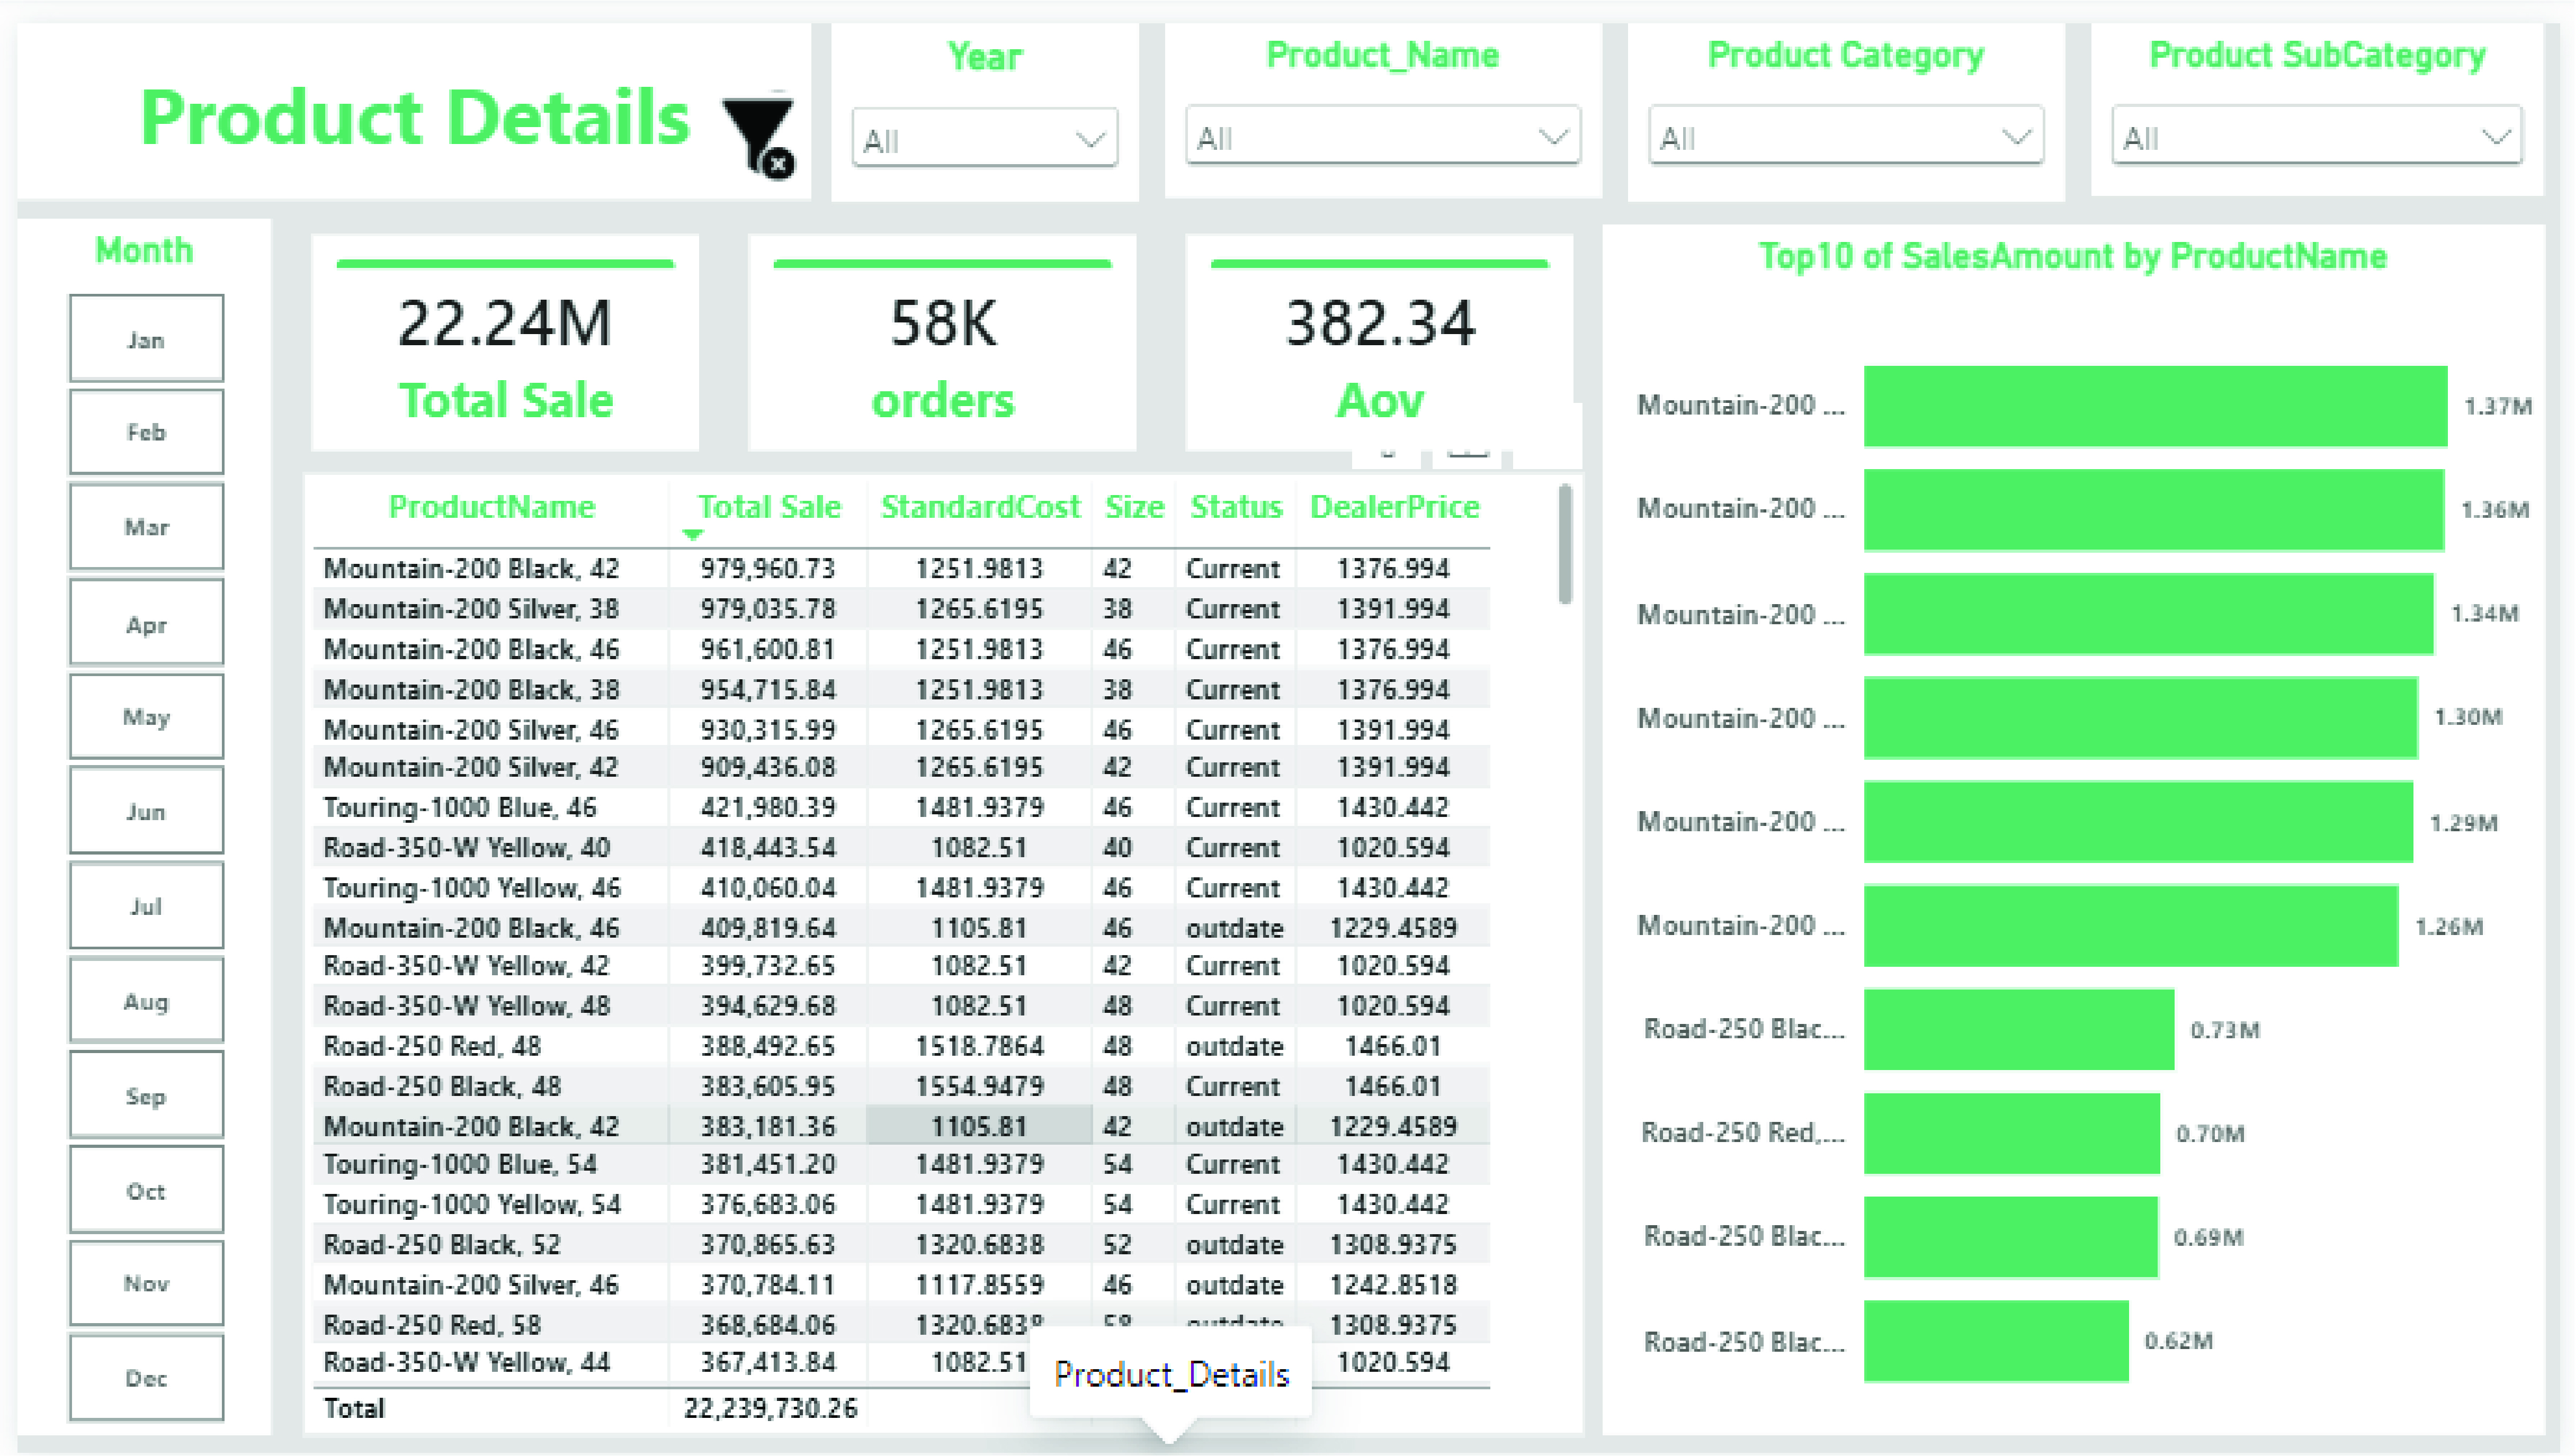

The dashboard page shown, as its layout file describes it:
{"tool":"powerbi","page":{"name":"Product_Details","canvas":[1280,720],"ordinal":2},"visuals":[{"type":"slicer","title":"Month","fields":{"Values":["Dim_Date.mon_3"]},"box":[0,98,128,613],"z":0},{"type":"actionButton","title":"Sales Overview","box":[0,0,399.8,89],"z":1000},{"type":"slicer","title":"Product Category","fields":{"Values":["Dim-Product.ProductCategory"]},"box":[811.7,0.4,220,90],"z":2000},{"type":"slicer","title":"Product SubCategory","fields":{"Values":["Dim-Product.ProductSubcategory"]},"box":[1045.3,0,228.3,86.8],"z":3000},{"type":"barChart","title":"Top10 of SalesAmount by ProductName","fields":{"Category":["Dim-Product.ProductName"],"Y":["Sum(Fact_Sale.SalesAmount)"]},"box":[798.3,101.7,475,610],"z":4000},{"type":"slicer","title":"Product_Name","fields":{"Values":["Dim-Product.ProductName"]},"box":[578.3,0,220,88],"z":5000},{"type":"tableEx","fields":{"Values":["Dim-Product.ProductName","measure.sales","Dim-Product.StandardCost","Dim-Product.Size","Dim-Product.Status","Dim-Product.DealerPrice"]},"box":[144,226,646,486],"z":6000},{"type":"slicer","title":"Year","fields":{"Values":["Dim_Date.year"]},"box":[410,0,155,90],"z":7000},{"type":"cardVisual","fields":{"Data":["measure.sales"]},"box":[144,101.6,205,119],"z":8000},{"type":"cardVisual","fields":{"Data":["measure.orders"]},"box":[364,101.6,205,119],"z":9000},{"type":"cardVisual","fields":{"Data":["measure.Aov"]},"box":[584,101.6,205,119],"z":10000},{"type":"actionButton","box":[346.7,26.7,53.3,61.7],"z":11000}]}

Visuals, with their boxes in screenshot pixels (x1, y1, x2, y2), scaled from the page's 1280x720 canvas onto the 2575x1456 screenshot:
"Month" slicer: region(0, 198, 257, 1438)
"Sales Overview" actionButton: region(0, 0, 804, 180)
"Product Category" slicer: region(1633, 1, 2076, 183)
"Product SubCategory" slicer: region(2103, 0, 2562, 176)
"Top10 of SalesAmount by ProductName" barChart: region(1606, 205, 2562, 1439)
"Product_Name" slicer: region(1164, 0, 1606, 178)
tableEx - Dim-Product.ProductName x measure.sales: region(290, 457, 1589, 1440)
"Year" slicer: region(825, 0, 1137, 182)
cardVisual - measure.sales: region(290, 205, 702, 446)
cardVisual - measure.orders: region(732, 205, 1145, 446)
cardVisual - measure.Aov: region(1175, 205, 1587, 446)
actionButton: region(698, 54, 804, 179)
